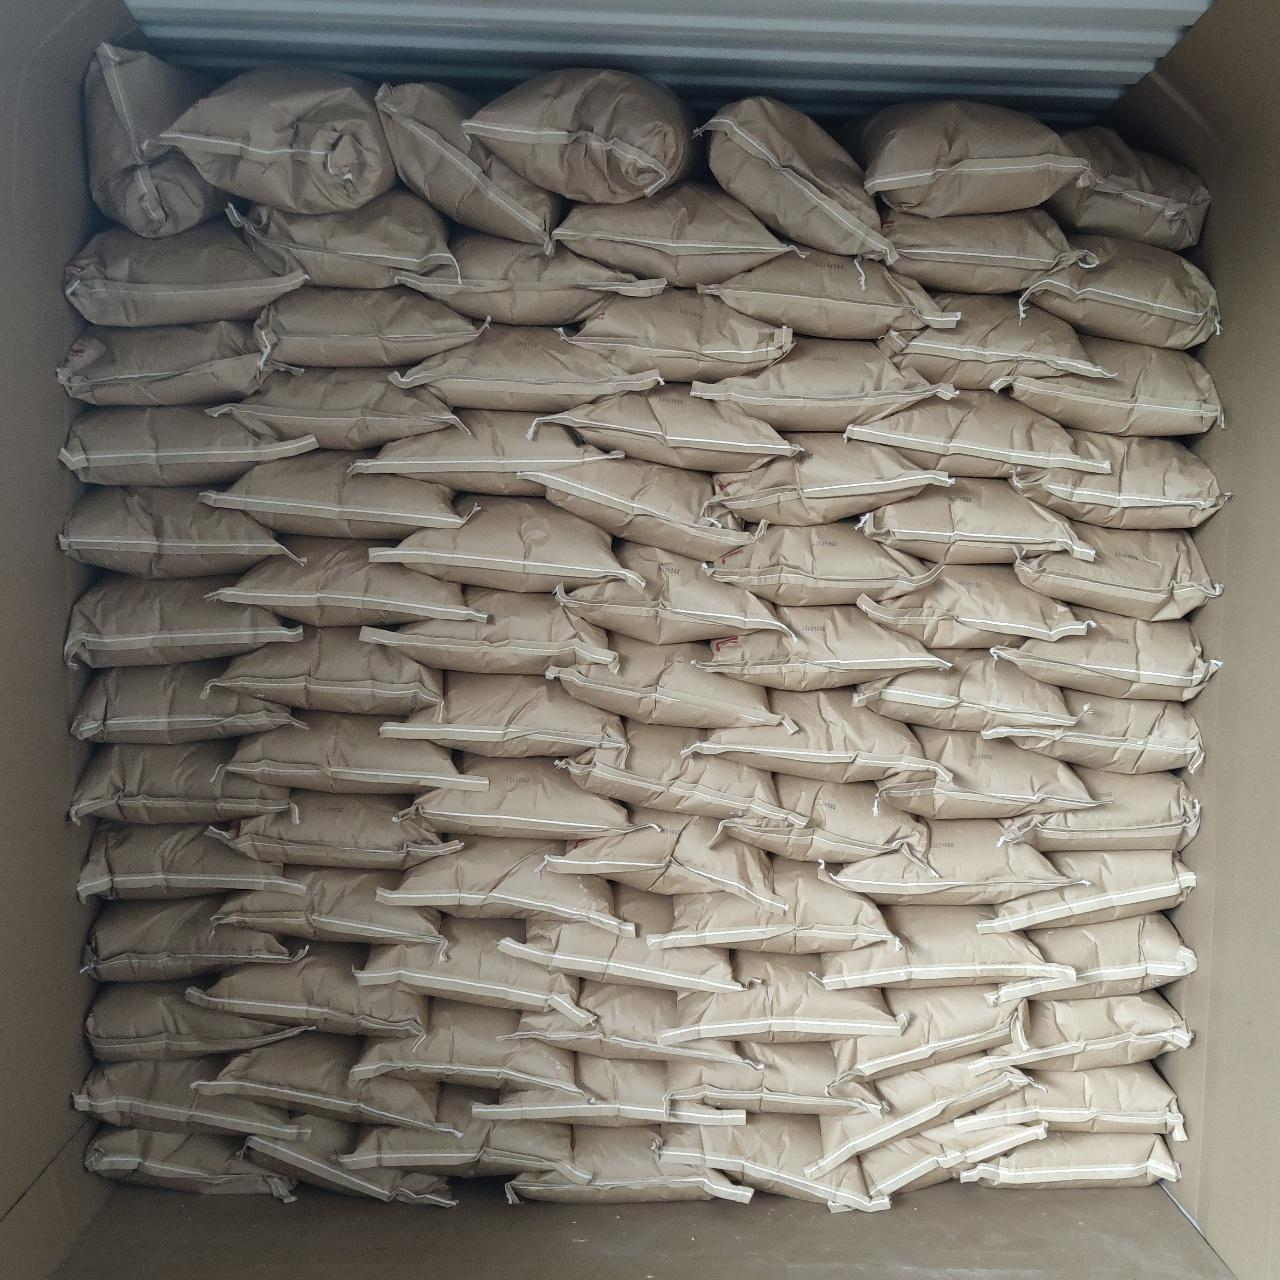sack: (141, 67, 397, 214), (702, 96, 892, 262), (374, 82, 562, 246), (464, 70, 700, 198), (84, 43, 226, 237), (840, 100, 1078, 214), (519, 451, 769, 559), (66, 218, 304, 326), (554, 182, 794, 286), (686, 688, 948, 782), (398, 232, 664, 324), (502, 890, 746, 990), (546, 636, 792, 732), (372, 496, 622, 590), (694, 338, 946, 430), (392, 324, 660, 410), (816, 1058, 1018, 1172), (656, 1112, 886, 1212), (210, 536, 476, 622), (1020, 234, 1218, 348), (202, 450, 464, 536), (846, 390, 1102, 478), (530, 386, 798, 470), (350, 410, 618, 494), (200, 1032, 438, 1126), (556, 542, 782, 640), (704, 248, 950, 338), (652, 858, 890, 950), (542, 808, 774, 902), (1000, 336, 1222, 434), (66, 574, 296, 668), (230, 188, 450, 286), (992, 606, 1220, 700), (712, 434, 950, 524), (194, 942, 426, 1034), (882, 294, 1106, 388), (820, 904, 1064, 990), (340, 1086, 578, 1174), (358, 918, 580, 1012), (362, 588, 614, 670), (382, 672, 622, 758), (560, 722, 782, 814), (820, 820, 1066, 902), (396, 754, 634, 838), (208, 368, 464, 446), (60, 406, 316, 484), (214, 866, 446, 952), (214, 626, 440, 714), (570, 290, 790, 380), (350, 998, 574, 1086), (1012, 434, 1226, 526), (380, 838, 614, 922), (82, 894, 304, 982), (878, 726, 1090, 818), (60, 488, 286, 574), (60, 322, 296, 404), (72, 658, 302, 742), (214, 790, 460, 868), (710, 608, 944, 690), (236, 1118, 454, 1206), (1016, 524, 1220, 618), (858, 478, 1086, 562), (476, 1054, 742, 1126), (1044, 128, 1206, 246), (676, 952, 898, 1038), (504, 982, 742, 1062), (226, 712, 468, 790), (508, 1126, 750, 1204), (986, 914, 1194, 1004), (718, 774, 926, 862), (70, 740, 292, 822), (708, 522, 930, 604), (858, 566, 1084, 646), (256, 286, 482, 366), (832, 986, 1024, 1080), (880, 208, 1094, 292), (984, 690, 1200, 772), (86, 982, 310, 1060), (978, 852, 1194, 932), (974, 990, 1190, 1070), (74, 1056, 288, 1134), (1000, 766, 1198, 850), (80, 826, 304, 900), (854, 650, 1070, 726), (968, 1062, 1182, 1136), (86, 1124, 294, 1198), (670, 1042, 880, 1114), (858, 1123, 1045, 1198), (960, 1132, 1180, 1186)
